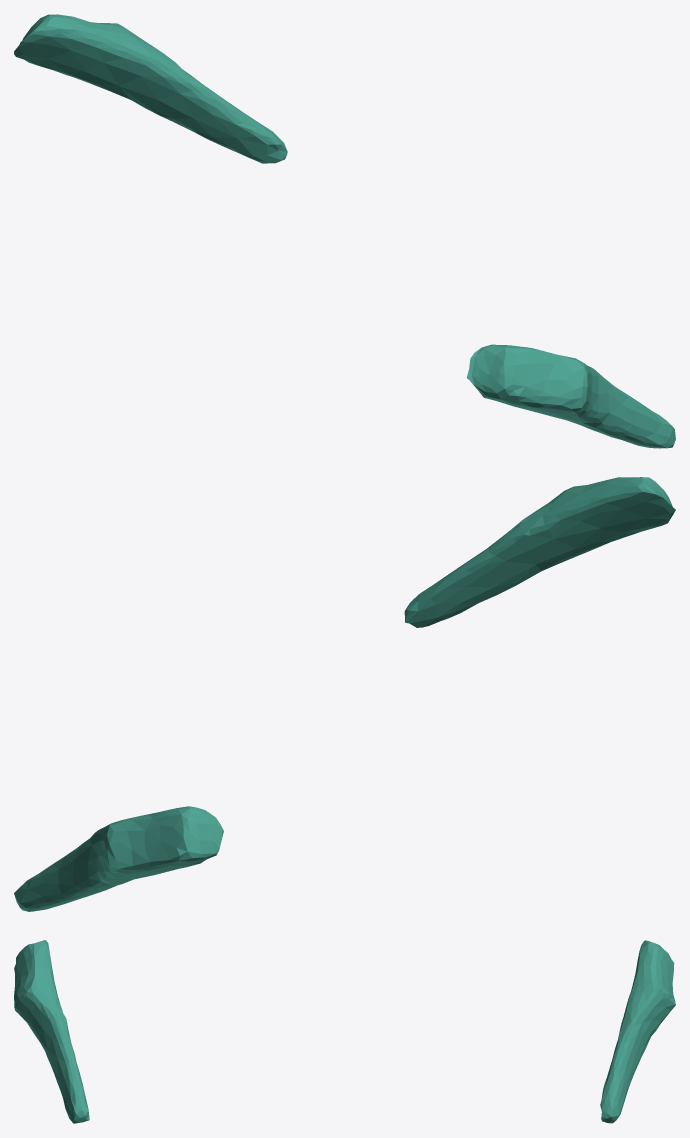
The picture shows the model from 3 angles, top to bottom: view 1: azimuth 30°, elevation 25°; view 2: azimuth 150°, elevation 25°; view 3: azimuth 270°, elevation 25°; orthographic projection. The views are drawn at different scales.
Parts seen in each view (by area): view 1: 182305709.obj; view 2: 182305709.obj; view 3: 182305709.obj.
Boxes of the visible parts, left/top/right/bottom form: 182305709.obj: left=14, top=14, right=675, bottom=448; 182305709.obj: left=14, top=477, right=675, bottom=911; 182305709.obj: left=14, top=940, right=675, bottom=1123.
Size of the model in its own units: 1627 by 1116 by 5723.
